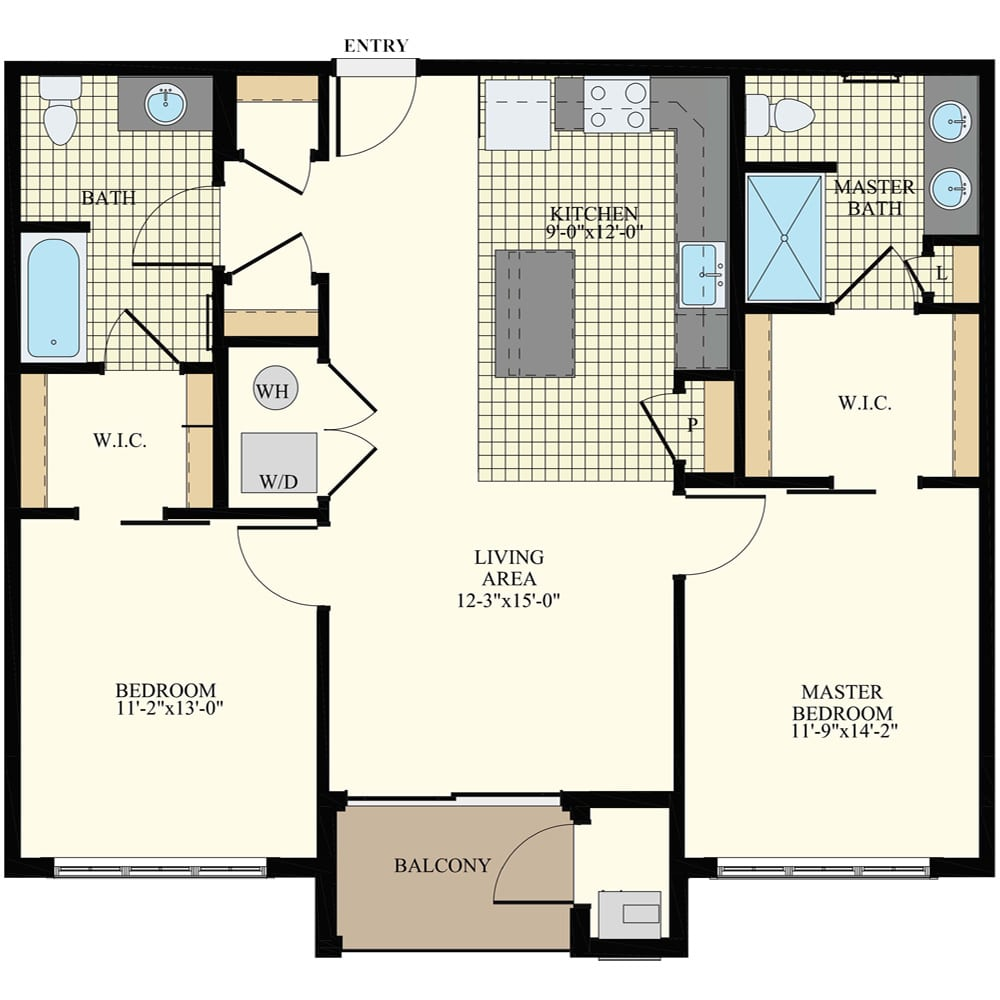door: (333, 354, 390, 498), (332, 82, 432, 164), (697, 490, 773, 570), (232, 525, 306, 607), (226, 228, 321, 267), (245, 155, 324, 201)
room: (323, 60, 749, 488), (672, 490, 999, 884), (8, 509, 333, 878), (312, 506, 687, 804), (2, 58, 227, 372), (730, 60, 994, 310), (739, 303, 993, 490), (6, 364, 227, 518), (214, 60, 330, 337), (212, 264, 329, 513)
window: (785, 854, 861, 884), (855, 857, 929, 887), (718, 855, 790, 884), (54, 858, 127, 885), (199, 857, 266, 881), (127, 860, 196, 882)
